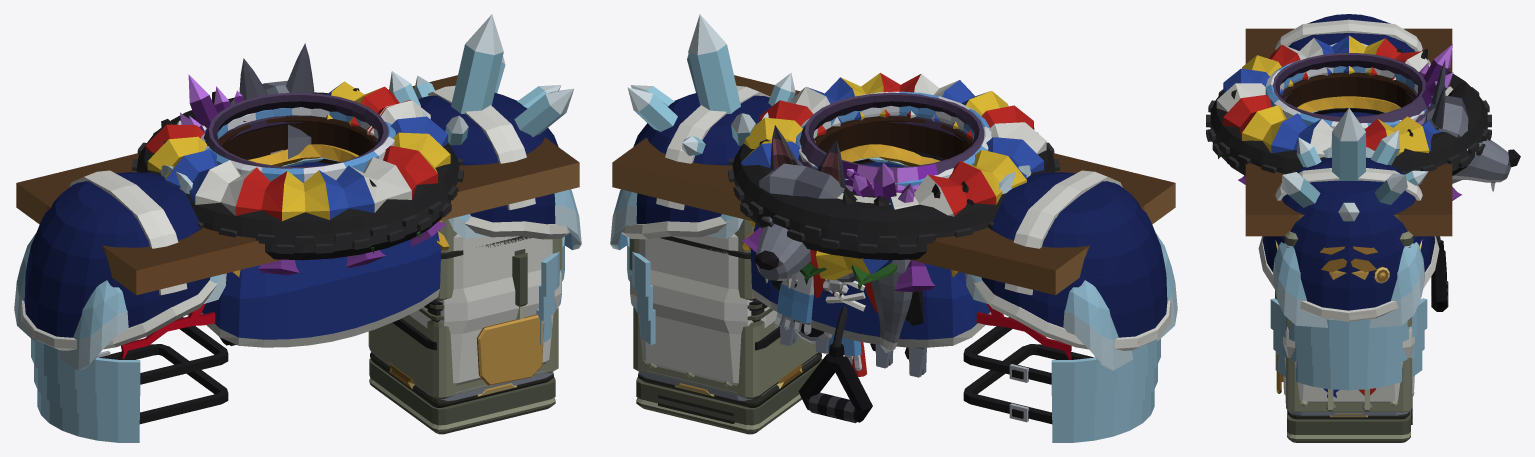
The model's file is kit_arms.glb.
3 views of the same model, side by side, from view 1: azimuth 30°, elevation 25°; view 2: azimuth 150°, elevation 25°; view 3: azimuth 270°, elevation 25° (orthographic). The views are drawn at different scales.
Parts seen in each view (by area): view 1: VW_GiantsBelt__Cap_M, VW_GiantsBelt, VW_ChoirBell, VW_CrackedPhial__Cap_M, VW_PenitentsChain, VW_Armourbreaker, VW_AnvilRing, VW_MartyrsBrand, VW_GiantsBelt__Cap, VW_FrostKnuckle, VW_CorruptedGorget, VW_VenomGland (+7 smaller); view 2: VW_GiantsBelt__Cap_M, VW_CrackedPhial__Cap_M, VW_PenitentsChain, VW_ChoirBell, VW_MartyrsBrand, VW_AnvilRing, VW_Armourbreaker, VW_GiantsBelt, VW_ThornedFocus, VW_GiantsBelt__Cap, VW_CorruptedGorget, VW_FrostKnuckle (+9 smaller); view 3: VW_GiantsBelt__Cap, VW_CrackedPhial__Cap, VW_ChoirBell, VW_PenitentsChain, VW_AnvilRing, VW_Armourbreaker, VW_FrostKnuckle, VW_CorruptedGorget, VW_ThornedFocus, VW_GiantsBelt__Cap_M, VW_BriarCollar, VW_MartyrsBrand (+5 smaller).
Part boxes in pixels (box(x1,y1,x2,y2)): VW_GiantsBelt__Cap_M: box(20, 170, 218, 350); VW_GiantsBelt: box(201, 162, 441, 347); VW_ChoirBell: box(145, 81, 450, 221); VW_CrackedPhial__Cap_M: box(14, 165, 228, 442); VW_PenitentsChain: box(16, 75, 579, 295); VW_Armourbreaker: box(368, 219, 562, 434); VW_AnvilRing: box(132, 92, 463, 260); VW_MartyrsBrand: box(375, 233, 561, 400); VW_GiantsBelt__Cap: box(418, 85, 569, 239); VW_FrostKnuckle: box(389, 14, 573, 145); VW_CorruptedGorget: box(180, 74, 388, 168); VW_VenomGland: box(388, 193, 557, 396); VW_GiantsBelt__Cap_M: box(973, 170, 1171, 350); VW_CrackedPhial__Cap_M: box(963, 165, 1177, 442); VW_PenitentsChain: box(612, 75, 1175, 295); VW_ChoirBell: box(741, 72, 1046, 280); VW_MartyrsBrand: box(630, 233, 816, 400); VW_AnvilRing: box(728, 132, 1059, 260); VW_Armourbreaker: box(629, 219, 822, 434); VW_GiantsBelt: box(750, 162, 991, 347); VW_ThornedFocus: box(755, 125, 912, 353); VW_GiantsBelt__Cap: box(621, 85, 771, 239); VW_CorruptedGorget: box(797, 92, 984, 202); VW_FrostKnuckle: box(627, 14, 795, 155); VW_GiantsBelt__Cap: box(1258, 157, 1439, 321); VW_CrackedPhial__Cap: box(1270, 147, 1427, 390); VW_ChoirBell: box(1216, 35, 1462, 183); VW_PenitentsChain: box(1245, 28, 1452, 236); VW_AnvilRing: box(1206, 71, 1491, 175); VW_Armourbreaker: box(1275, 231, 1414, 442); VW_FrostKnuckle: box(1281, 108, 1428, 221); VW_CorruptedGorget: box(1272, 44, 1453, 125); VW_ThornedFocus: box(1424, 60, 1520, 191); VW_GiantsBelt__Cap_M: box(1275, 14, 1422, 52); VW_BriarCollar: box(1281, 72, 1416, 114); VW_MartyrsBrand: box(1283, 326, 1414, 415).
Size of the model in its own units: 4.92 by 3.34 by 2.94.
